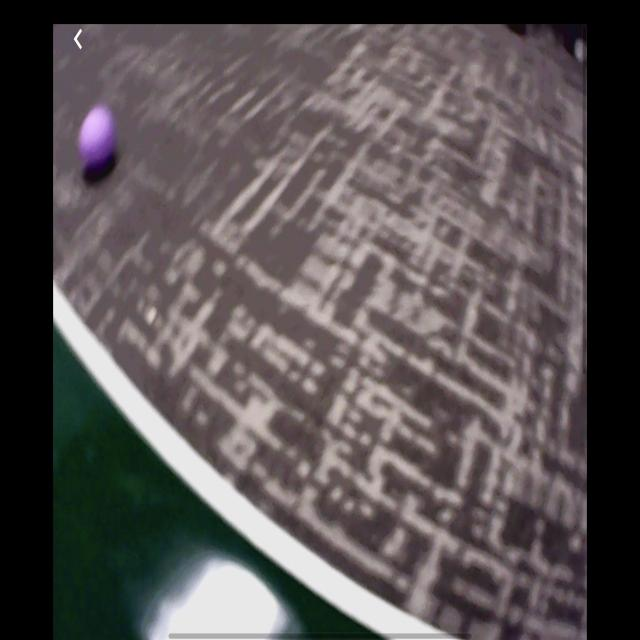ball: (78, 103, 117, 176)
